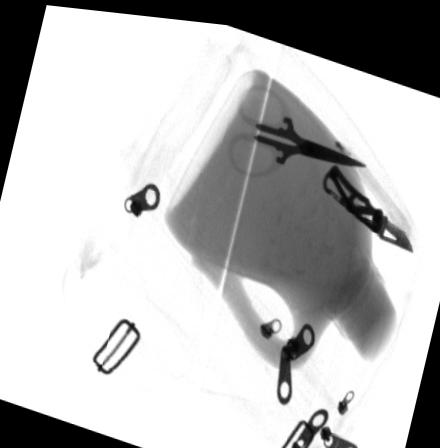Knife: (320, 155, 414, 243)
Scissors: (222, 74, 365, 176)
